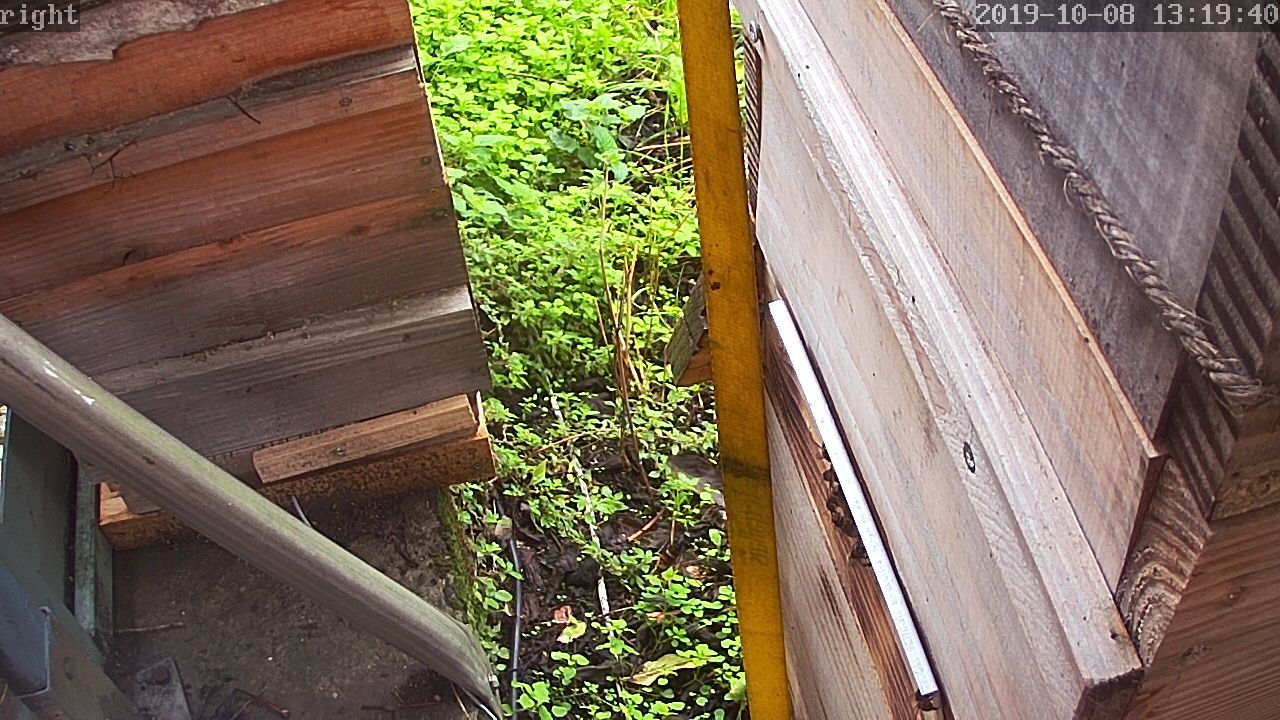bee: (820, 496, 863, 538), (812, 441, 842, 499), (902, 679, 945, 717), (844, 531, 874, 575)
hornet: (648, 529, 699, 579)
